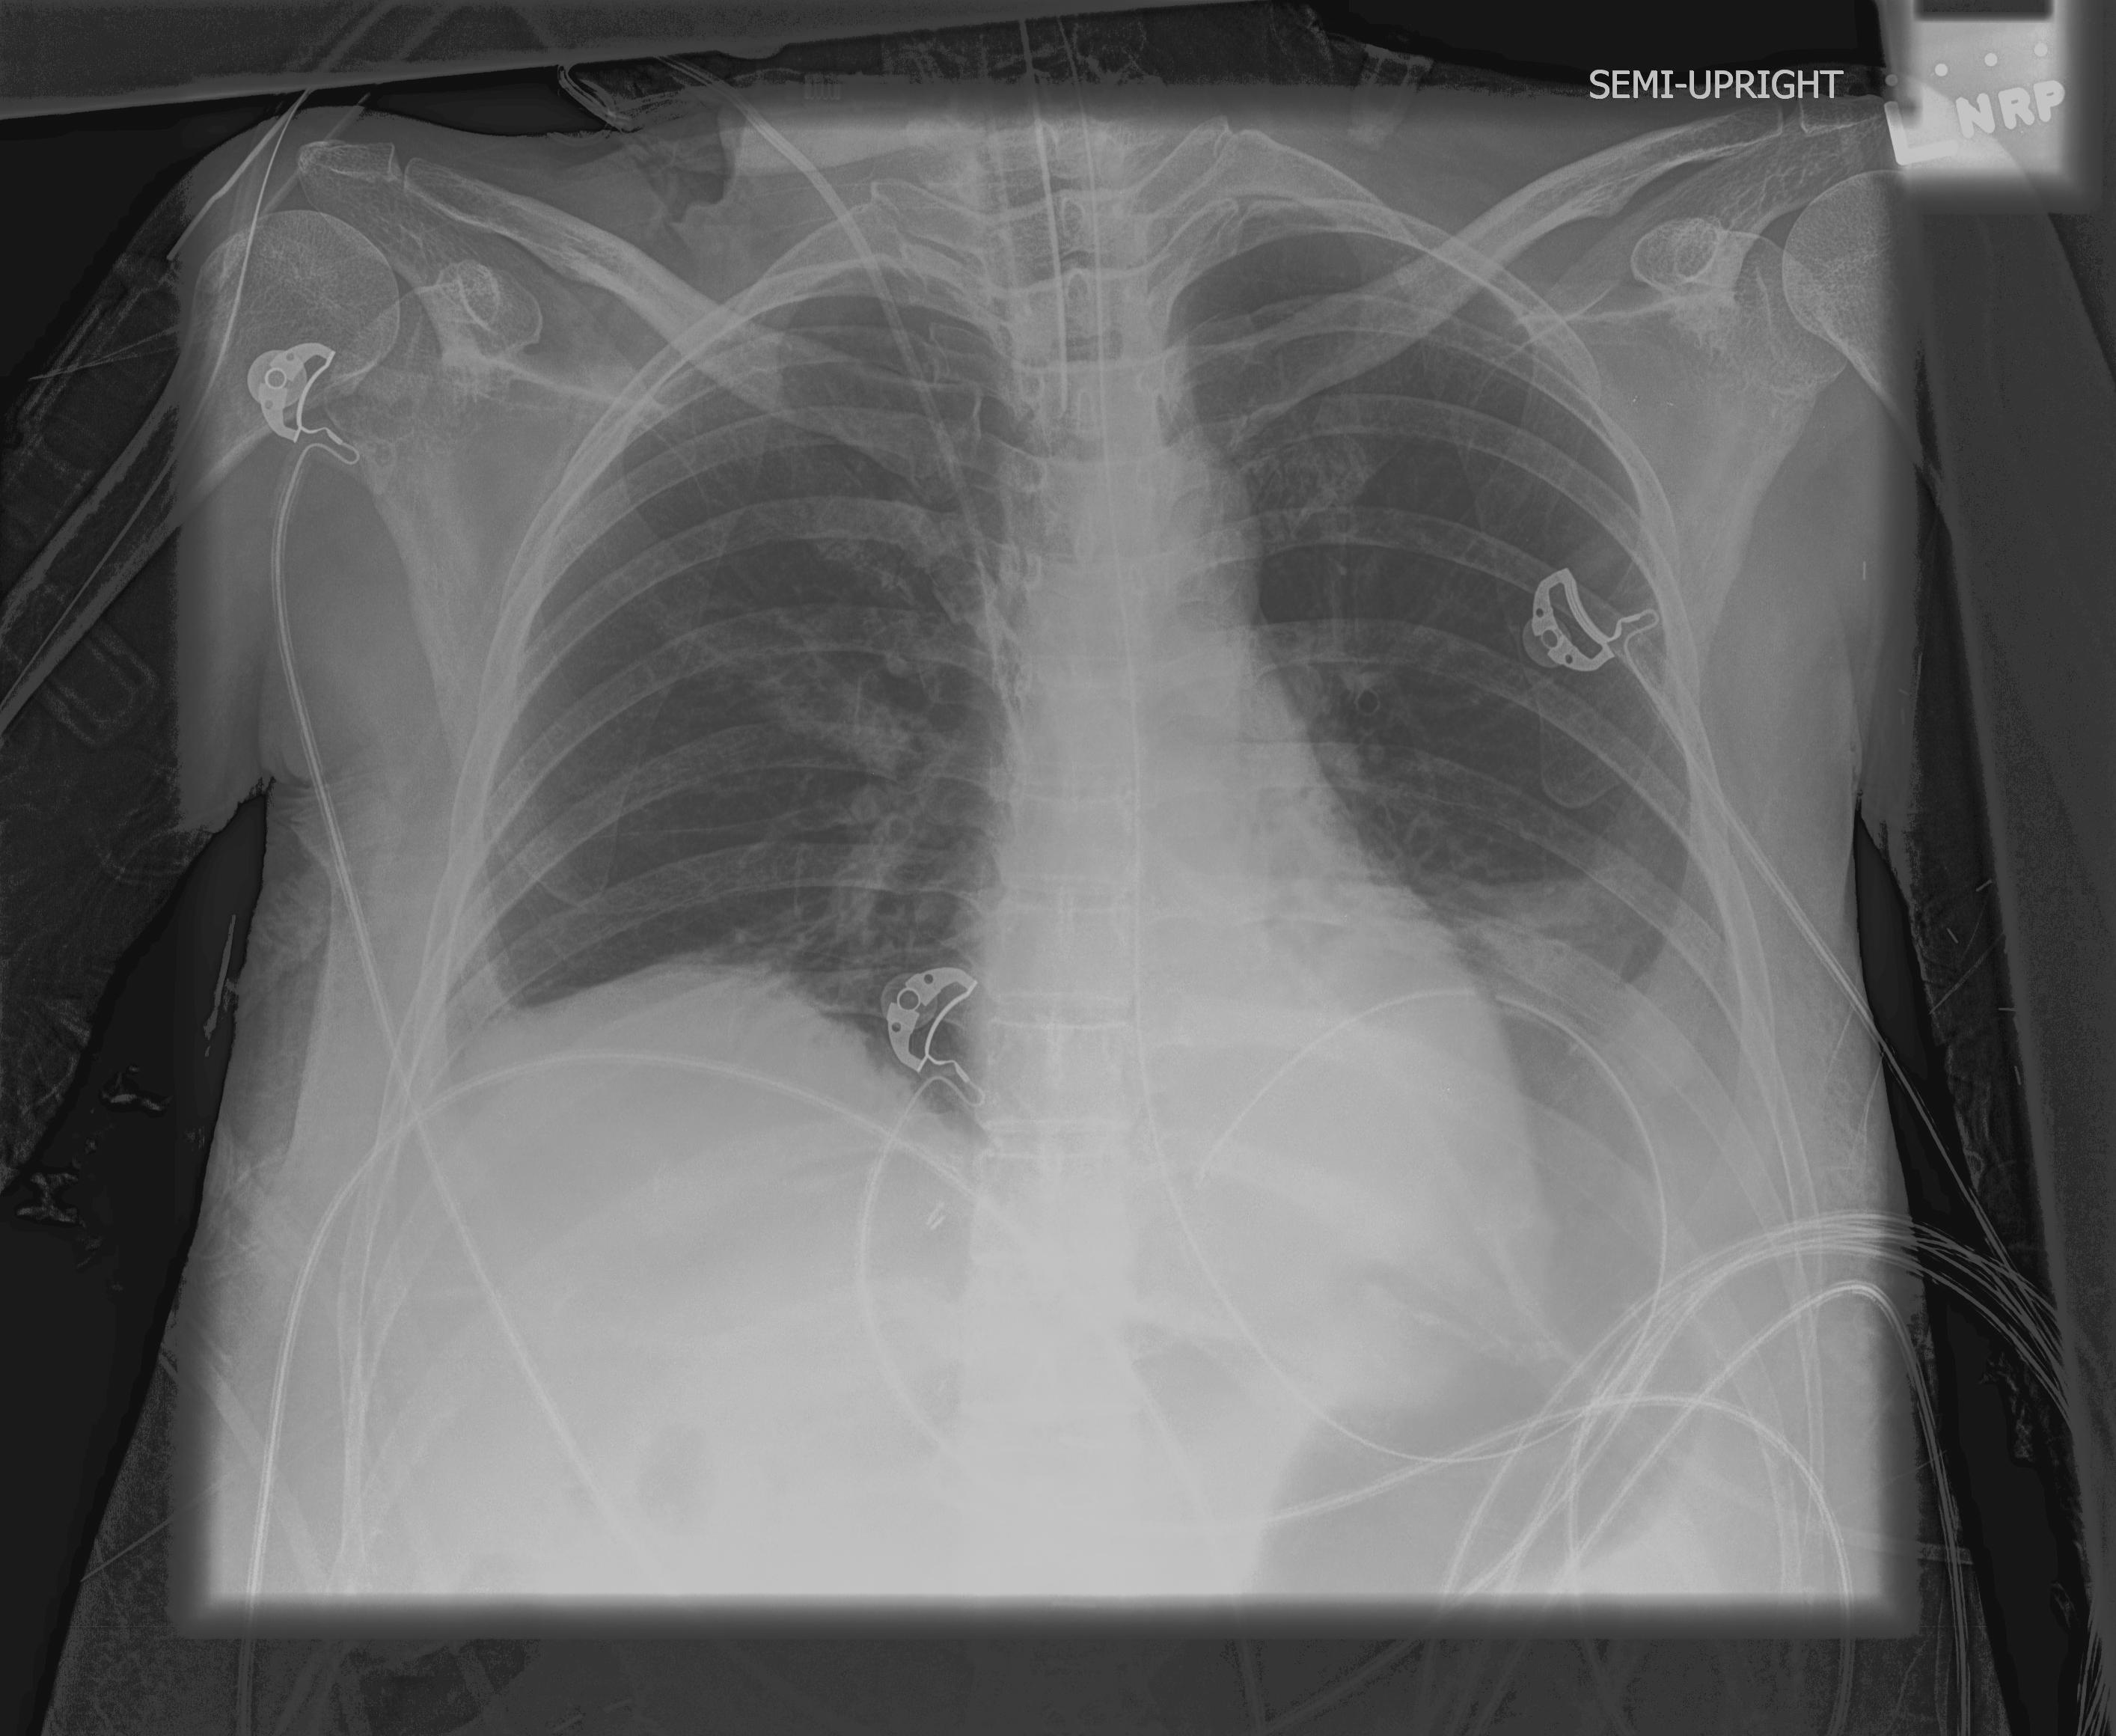Pleural Effusion: (1453, 850, 1865, 1462), (262, 928, 682, 1474)
